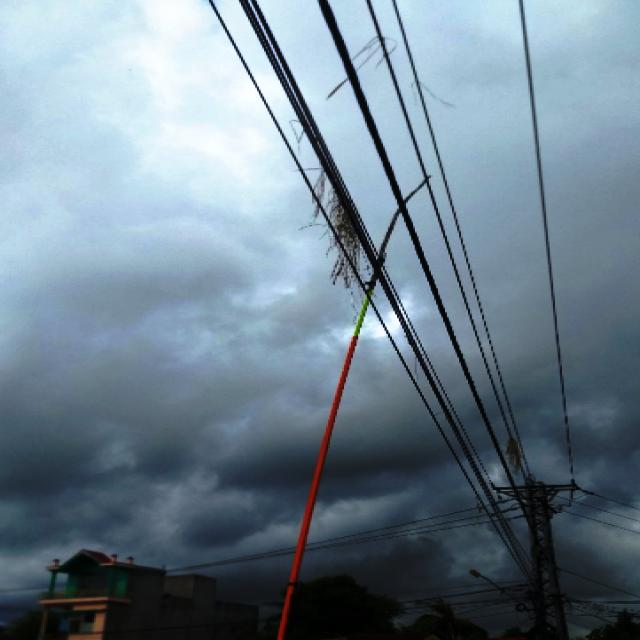obstruction: (309, 164, 375, 292)
poles: (507, 482, 569, 639)
wires: (252, 0, 574, 639)
